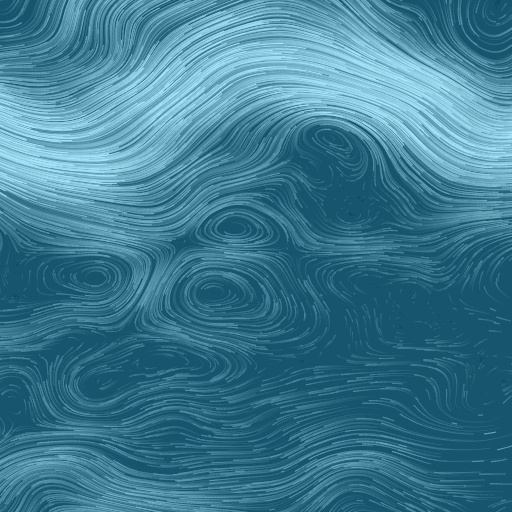eddy: (158, 257, 280, 330), (73, 344, 195, 405), (48, 252, 136, 307), (196, 205, 277, 248), (312, 126, 351, 154)
